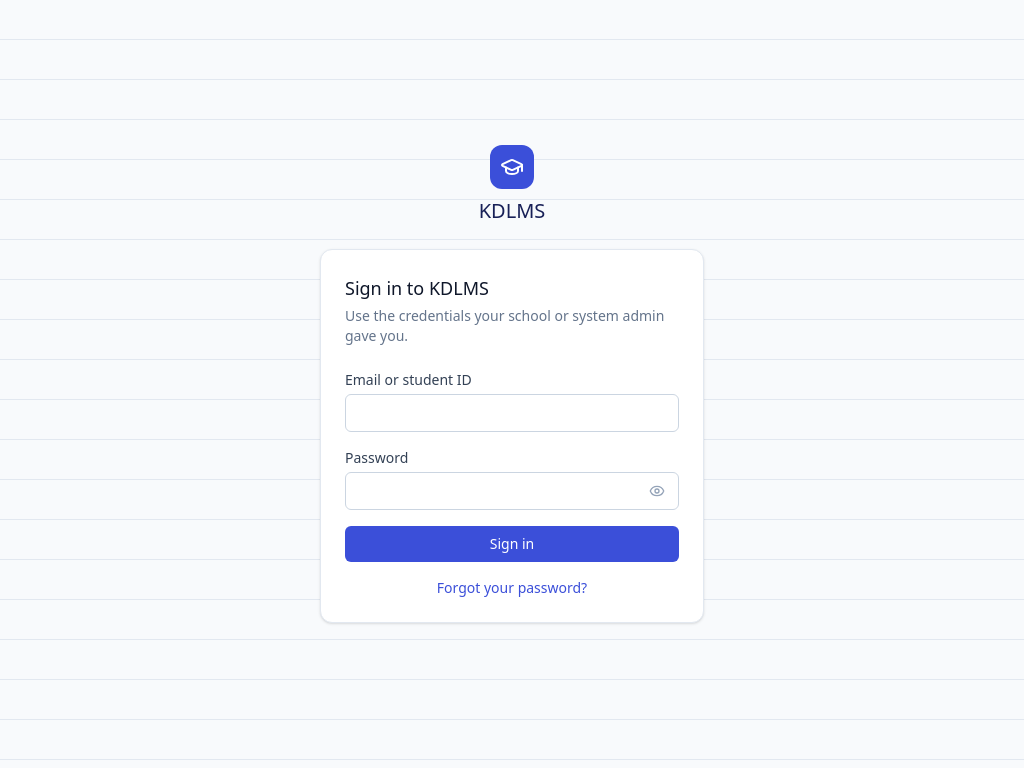
Scenario: LoginPage › shows the school-suspended message on a 403 and stays on the login page
Type "admin@suspended-school.example" into the field labelled "Email or student ID".
click(512, 413); type("admin@suspended-school.example")  # box [345,394,679,432]
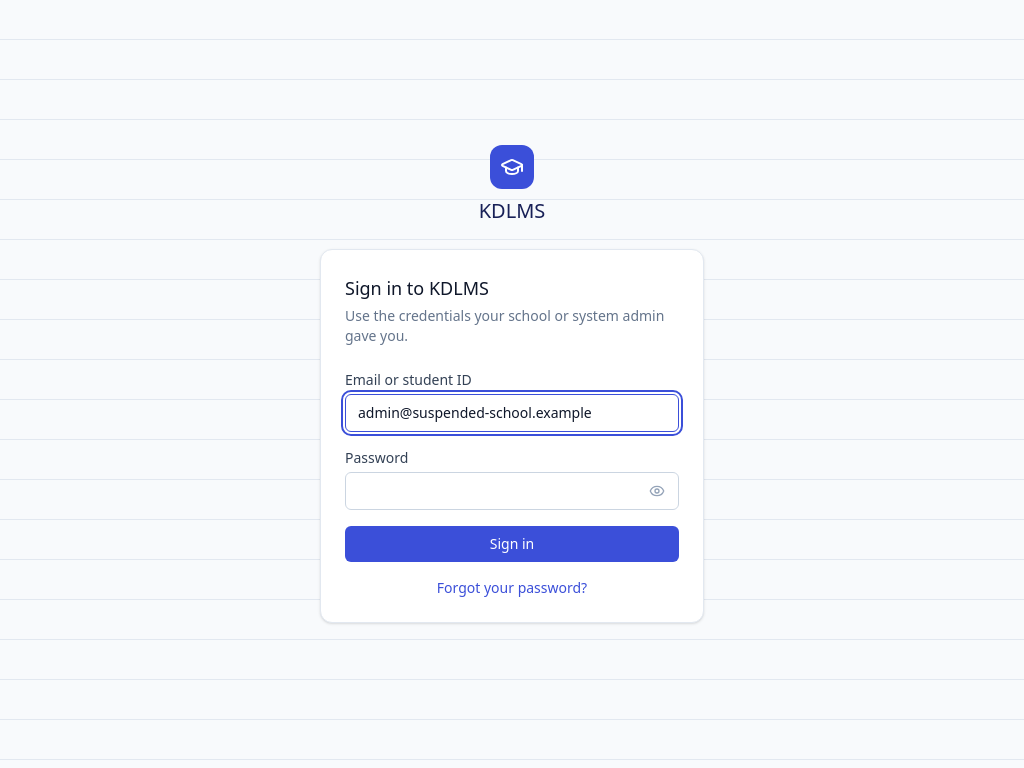
Type "ChangeMe123!" into the password field labelled "Password".
click(512, 491); type("ChangeMe123!")  # box [345,472,679,510]
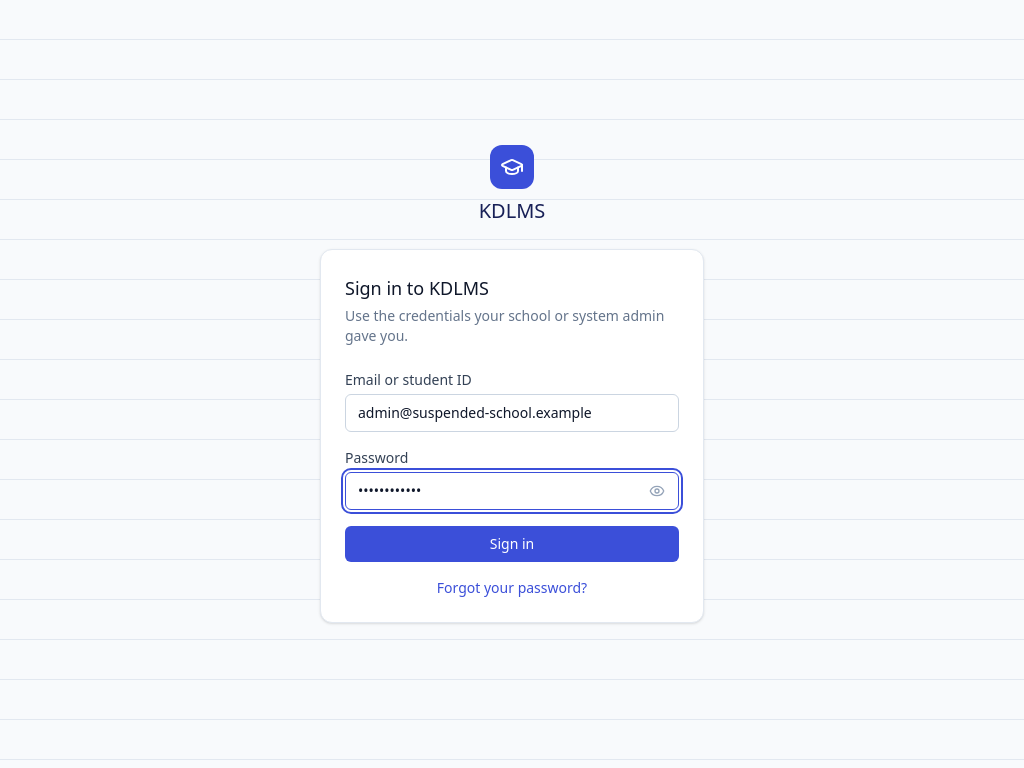
Click the button "Sign in".
click(512, 544)  # box [345,526,679,562]
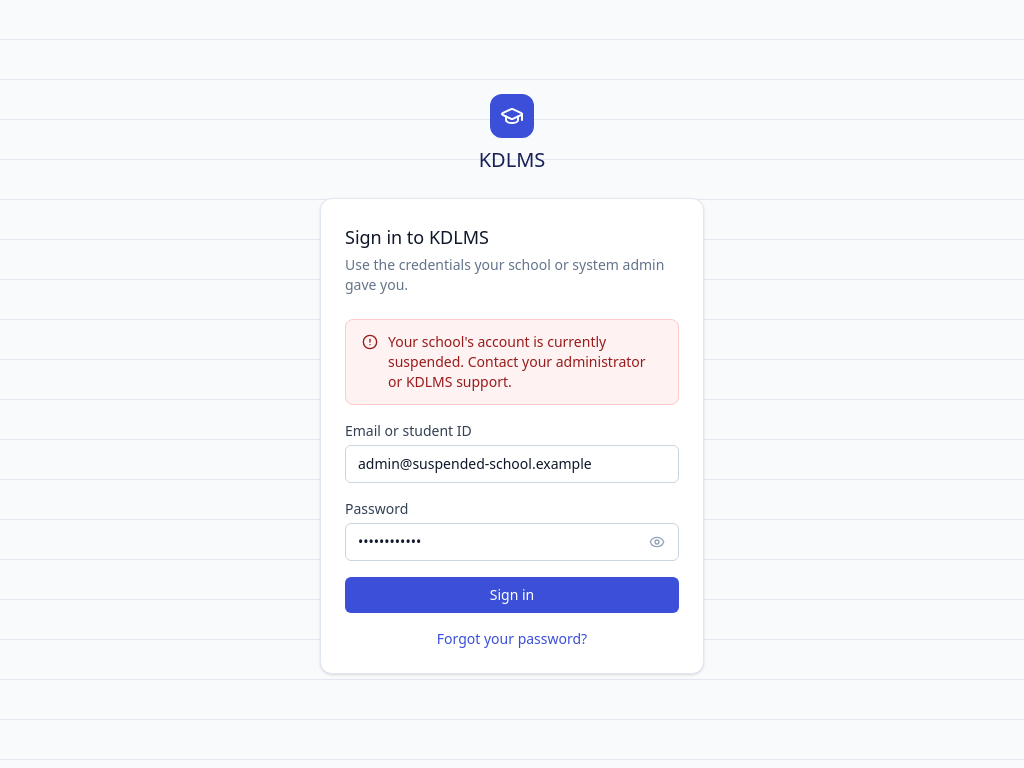
Expected: the button "Sign in" is shown, [345,577,679,613]
Expected: the text "Your school's account is currently suspended. Contact your administrator or KDLMS support." is shown, [388,332,646,391]
